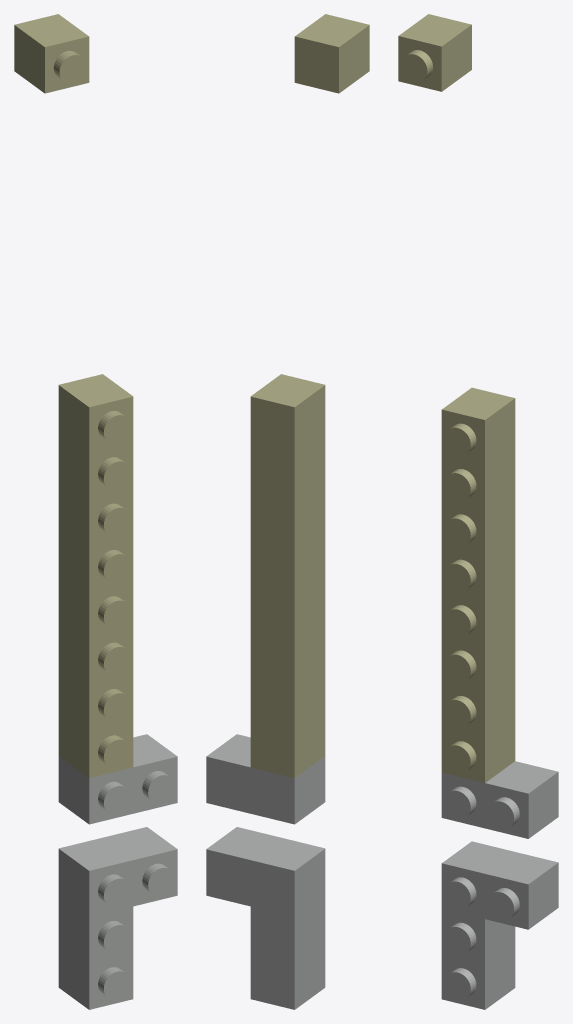
File: current.glb
3 views of the same model, side by side, from view 1: azimuth 30°, elevation 25°; view 2: azimuth 150°, elevation 25°; view 3: azimuth 330°, elevation 25° (orthographic). The views are drawn at different scales.
Visible parts, largest first — view 1: world; view 2: world; view 3: world.
Part boxes in pixels (x1,y1,x2,y2): world: (14,14,177,1009); world: (206,14,369,1009); world: (398,14,558,1009).
Size of the model in its own units: 24 by 168 by 11.4.
